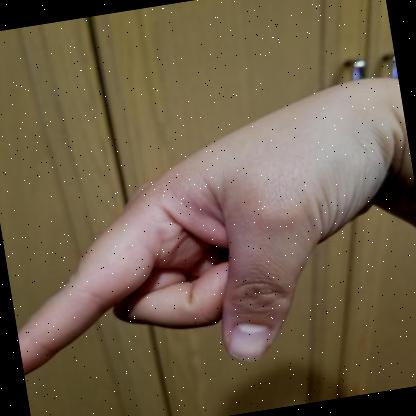Q: (17, 76, 400, 375)
